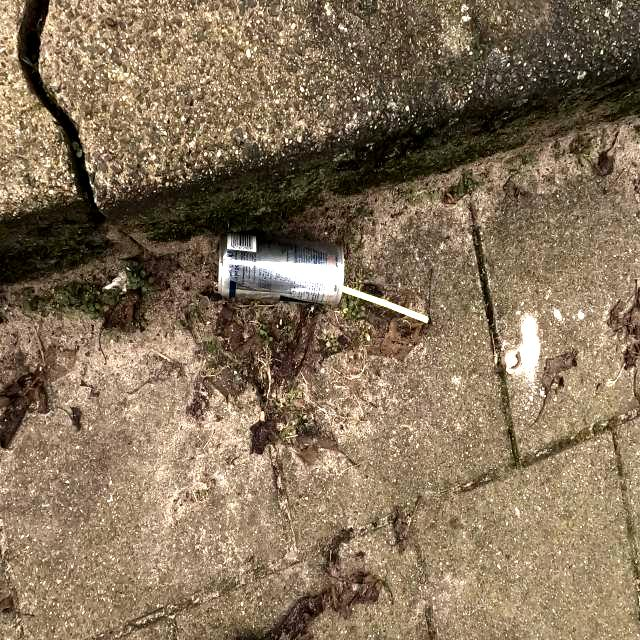Metal: (214, 229, 342, 305)
